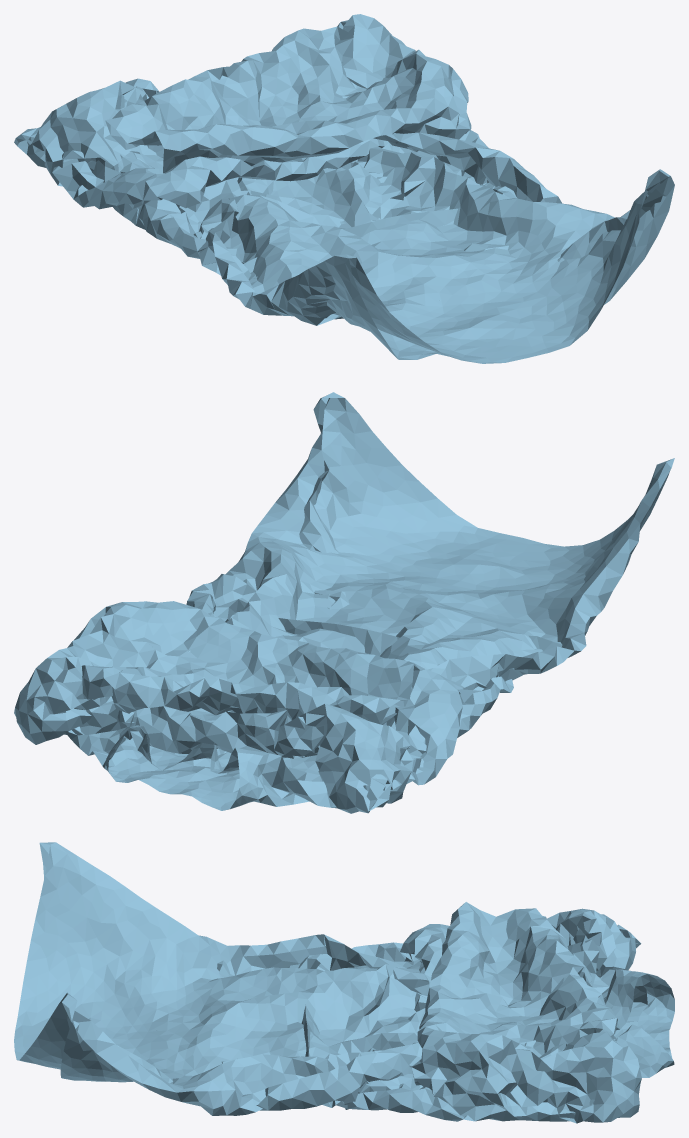
Rendered from frame_02.glb.
3 renders of one model, top to bottom at view 1: azimuth 30°, elevation 25°; view 2: azimuth 150°, elevation 25°; view 3: azimuth 270°, elevation 25°, orthographic. The views are drawn at different scales.
Visible parts, largest first — view 1: frame_02.obj; view 2: frame_02.obj; view 3: frame_02.obj.
Boxes of the visible parts, box(x1,y1,x2,y2) form: frame_02.obj: box(14, 14, 674, 363); frame_02.obj: box(14, 392, 674, 813); frame_02.obj: box(14, 842, 674, 1123).
Size of the model in its own units: 0.9279 by 0.3251 by 1.49.
